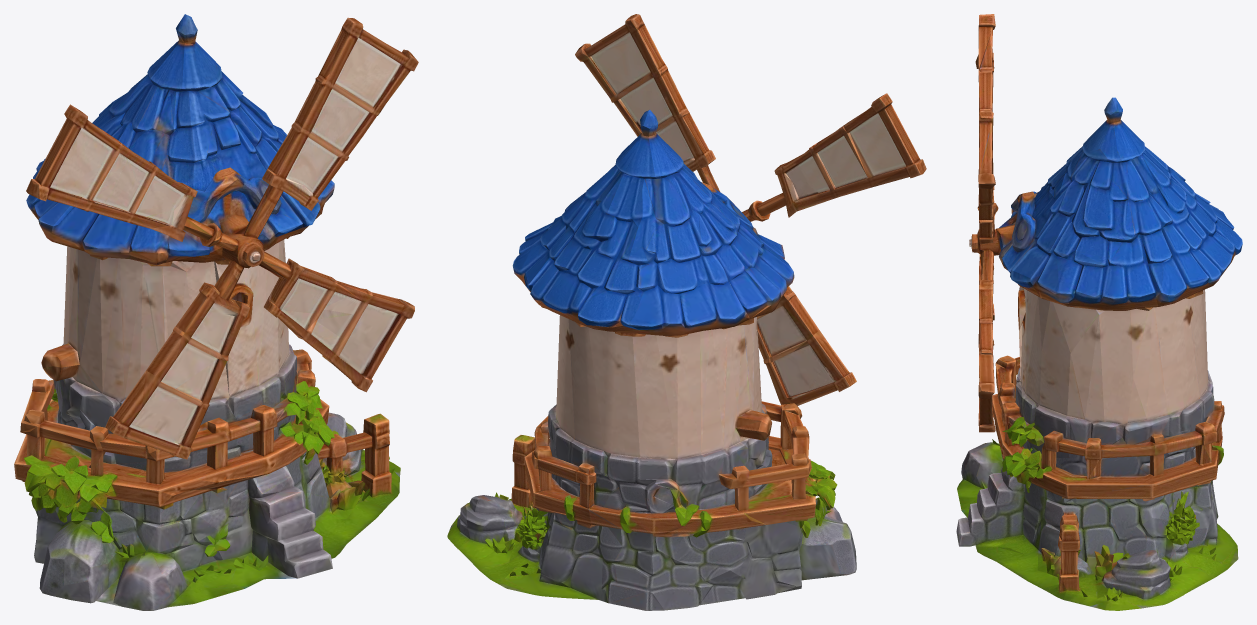
Rendered from windmill_variant.glb.
3 renders of one model, left to right at view 1: azimuth 30°, elevation 25°; view 2: azimuth 150°, elevation 25°; view 3: azimuth 270°, elevation 25°, orthographic. The views are drawn at different scales.
Parts seen in each view (by area): view 1: output_unwrapped; view 2: output_unwrapped; view 3: output_unwrapped.
Boxes of the visible parts, x1=… form: output_unwrapped: x1=14, y1=14, x2=418, y2=610; output_unwrapped: x1=447, y1=14, x2=926, y2=610; output_unwrapped: x1=956, y1=14, x2=1242, y2=610.
Size of what is drawn, in the model's own units: 0.8734 by 1 by 0.5797.
1 material, 1 textured.
